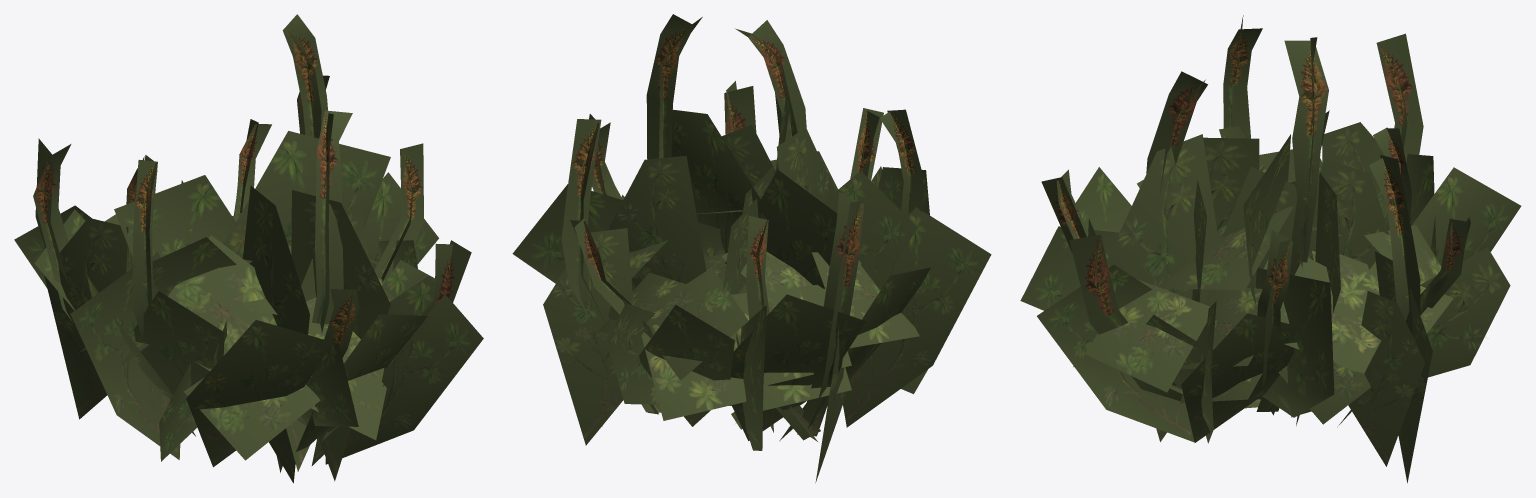
Rendered from DesertBush02.fbx.
3 views of the same model, side by side, from view 1: azimuth 30°, elevation 25°; view 2: azimuth 150°, elevation 25°; view 3: azimuth 270°, elevation 25° (orthographic). The views are drawn at different scales.
Visible parts, largest first — view 1: LV_Common_Foliage_A_DesertBush02_PM_LBR; view 2: LV_Common_Foliage_A_DesertBush02_PM_LBR; view 3: LV_Common_Foliage_A_DesertBush02_PM_LBR.
Part boxes in pixels (bbox=[...]): LV_Common_Foliage_A_DesertBush02_PM_LBR: bbox=[14, 14, 483, 483]; LV_Common_Foliage_A_DesertBush02_PM_LBR: bbox=[512, 14, 991, 482]; LV_Common_Foliage_A_DesertBush02_PM_LBR: bbox=[1020, 15, 1521, 483].
Bounding box in the file's own units: 24.01 × 22.24 × 23.6.
